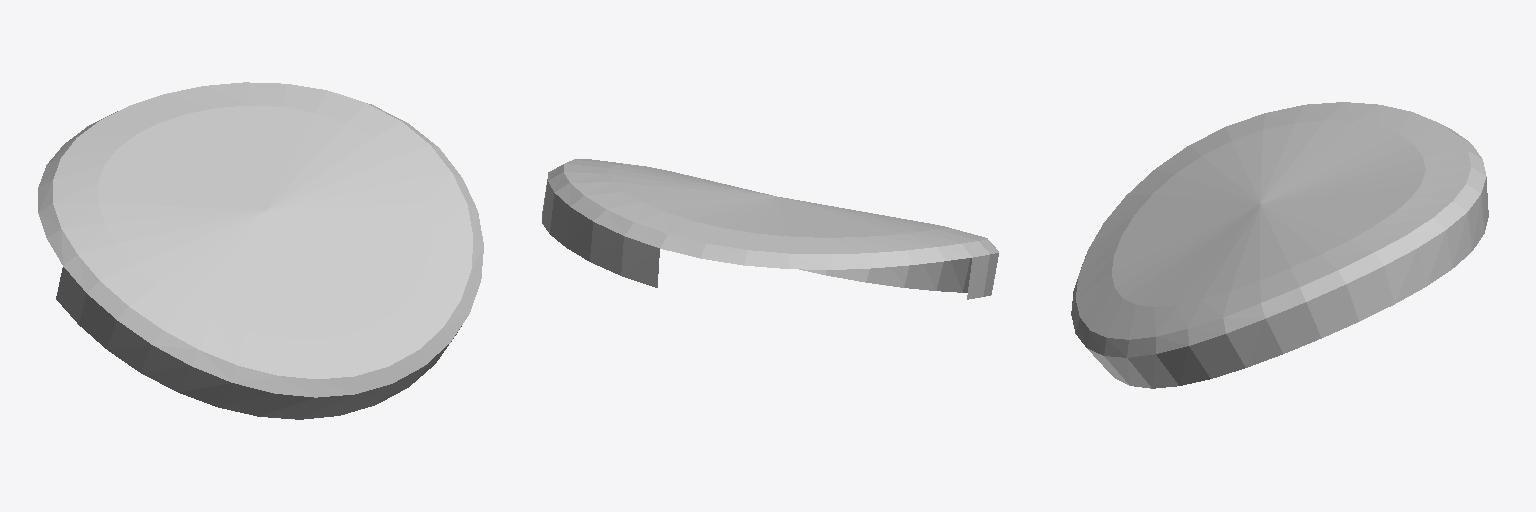
Rendered from hiltdeco.obj.
3 views of the same model, side by side, from view 1: azimuth 30°, elevation 25°; view 2: azimuth 150°, elevation 25°; view 3: azimuth 270°, elevation 25° (orthographic).
Parts seen in each view (by area): view 1: hiltdeco; view 2: hiltdeco; view 3: hiltdeco.
Boxes of the visible parts, box(x1,y1,x2,y2) form: hiltdeco: box(38, 82, 483, 419); hiltdeco: box(542, 159, 998, 299); hiltdeco: box(1071, 102, 1488, 388).
Size of the model in its own units: 2.32 by 1.02 by 2.1.